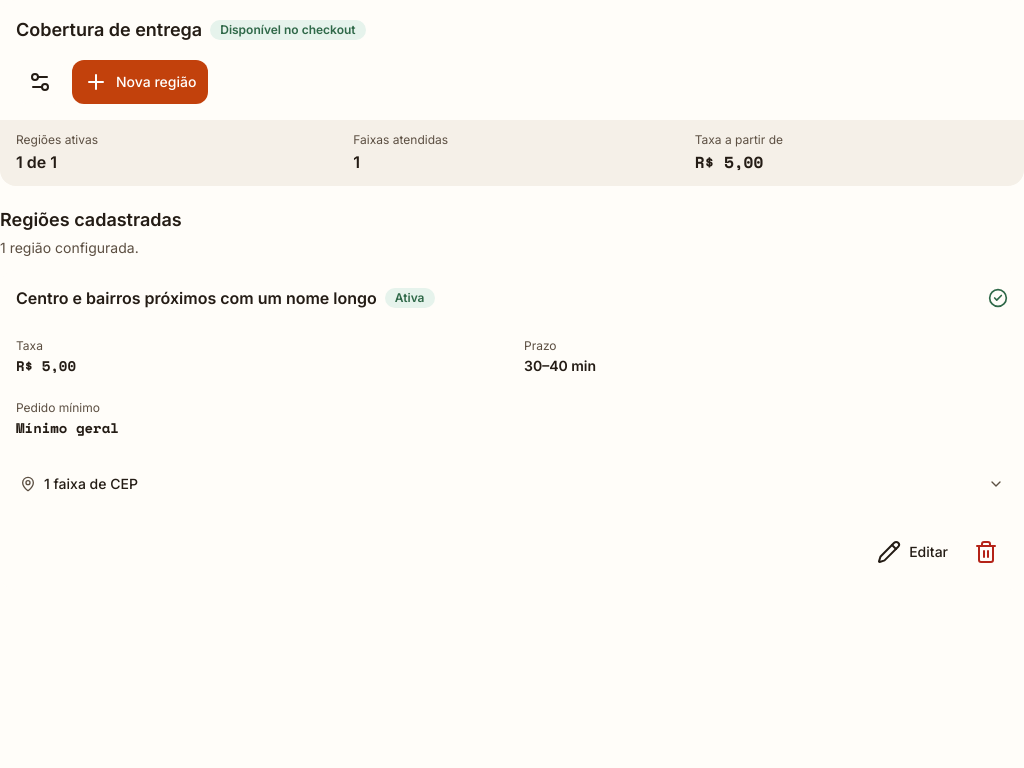
Test: gestão de regiões de entrega › abre um editor isolado em vez de expandir o formulário dentro do card
Step 1. Click the button with aria-label "Editar região Centro" → click(913, 552), box [865,530,960,574]
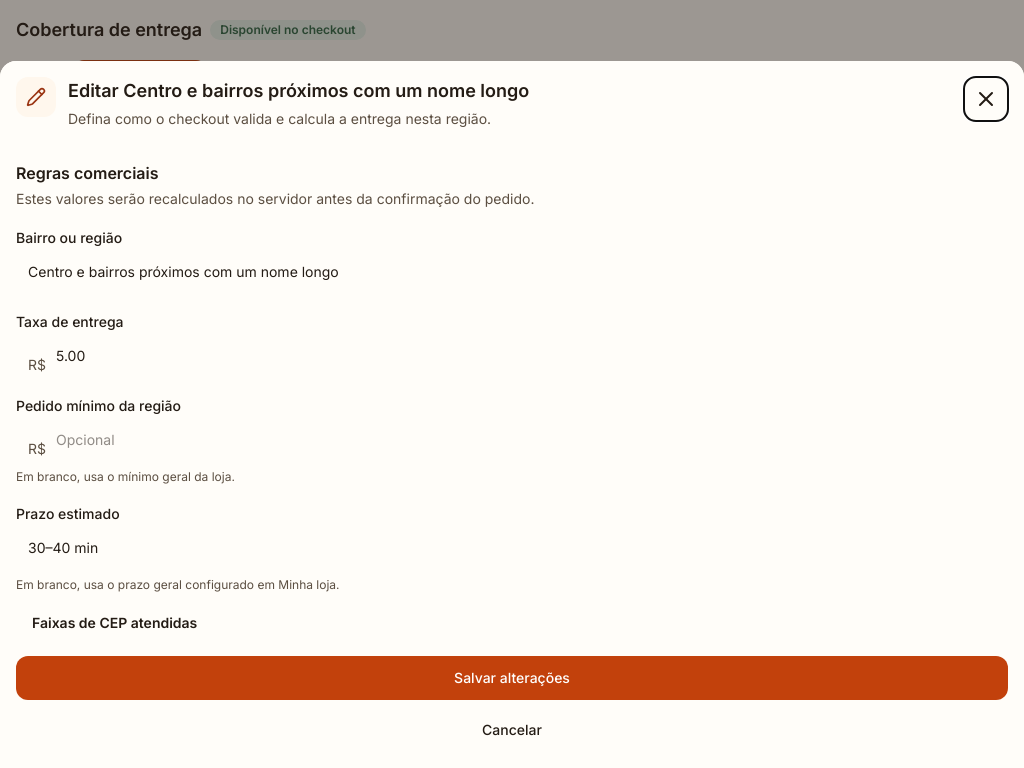
Result: the dialog "Editar Centro" is shown
Result: the field labelled "Bairro ou região" holds "Centro e bairros próximos com um nome longo" at [16,250,1008,294]
Result: the button "Salvar alterações" is shown at [16,656,1008,700]
